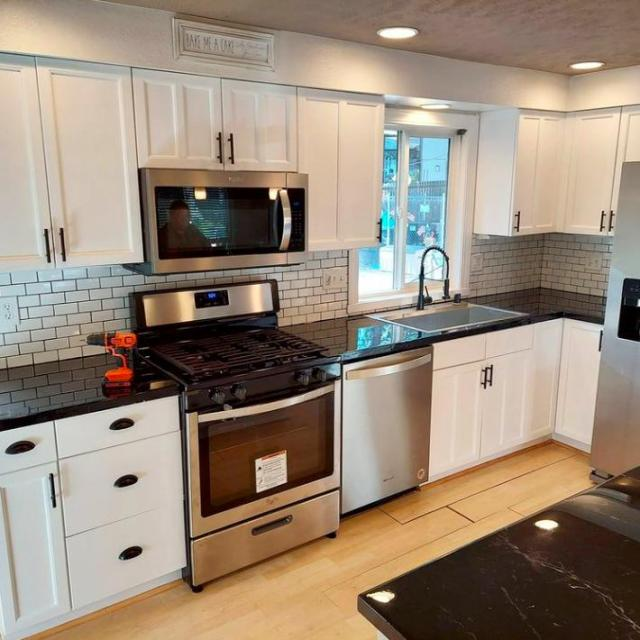dishwasher: (342, 344, 432, 512)
